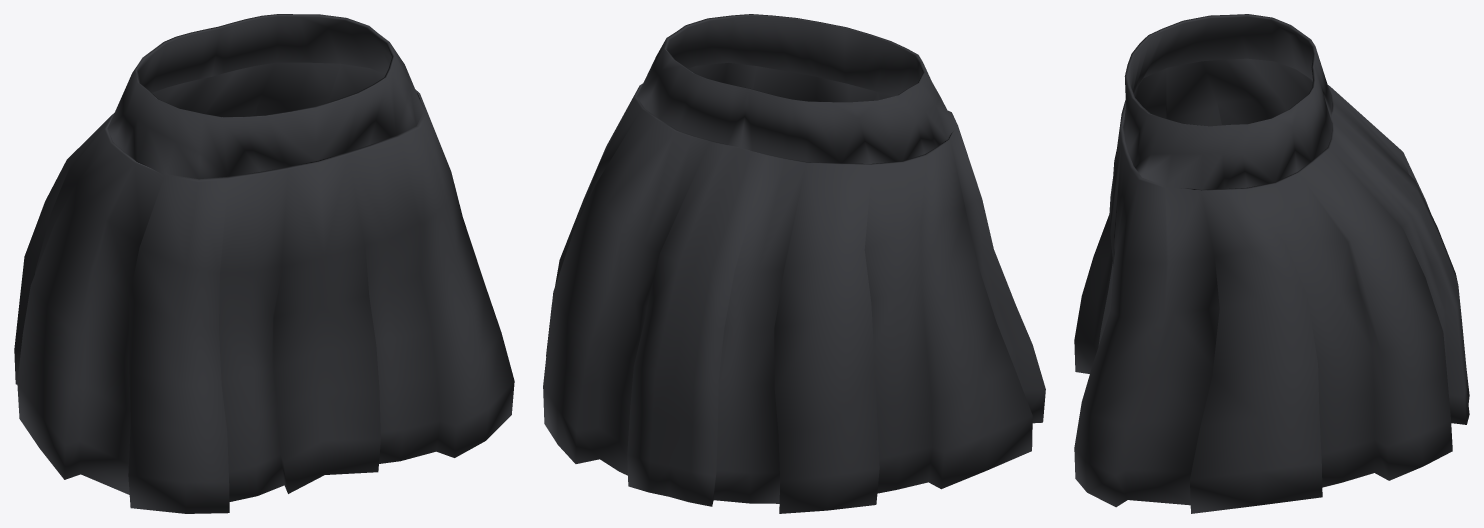
Rendered from skirt2.fbx.
3 views of the same model, side by side, from view 1: azimuth 30°, elevation 25°; view 2: azimuth 150°, elevation 25°; view 3: azimuth 270°, elevation 25° (orthographic). The views are drawn at different scales.
Visible parts, largest first — view 1: カスタム少女_mesh; view 2: カスタム少女_mesh; view 3: カスタム少女_mesh.
Part boxes in pixels (bbox=[...]): カスタム少女_mesh: bbox=[14, 14, 514, 513]; カスタム少女_mesh: bbox=[543, 14, 1045, 513]; カスタム少女_mesh: bbox=[1074, 14, 1469, 513].
Bounding box in the file's own units: 41.01 × 33.49 × 33.07.
Materials: 2 (2 with a texture image).
